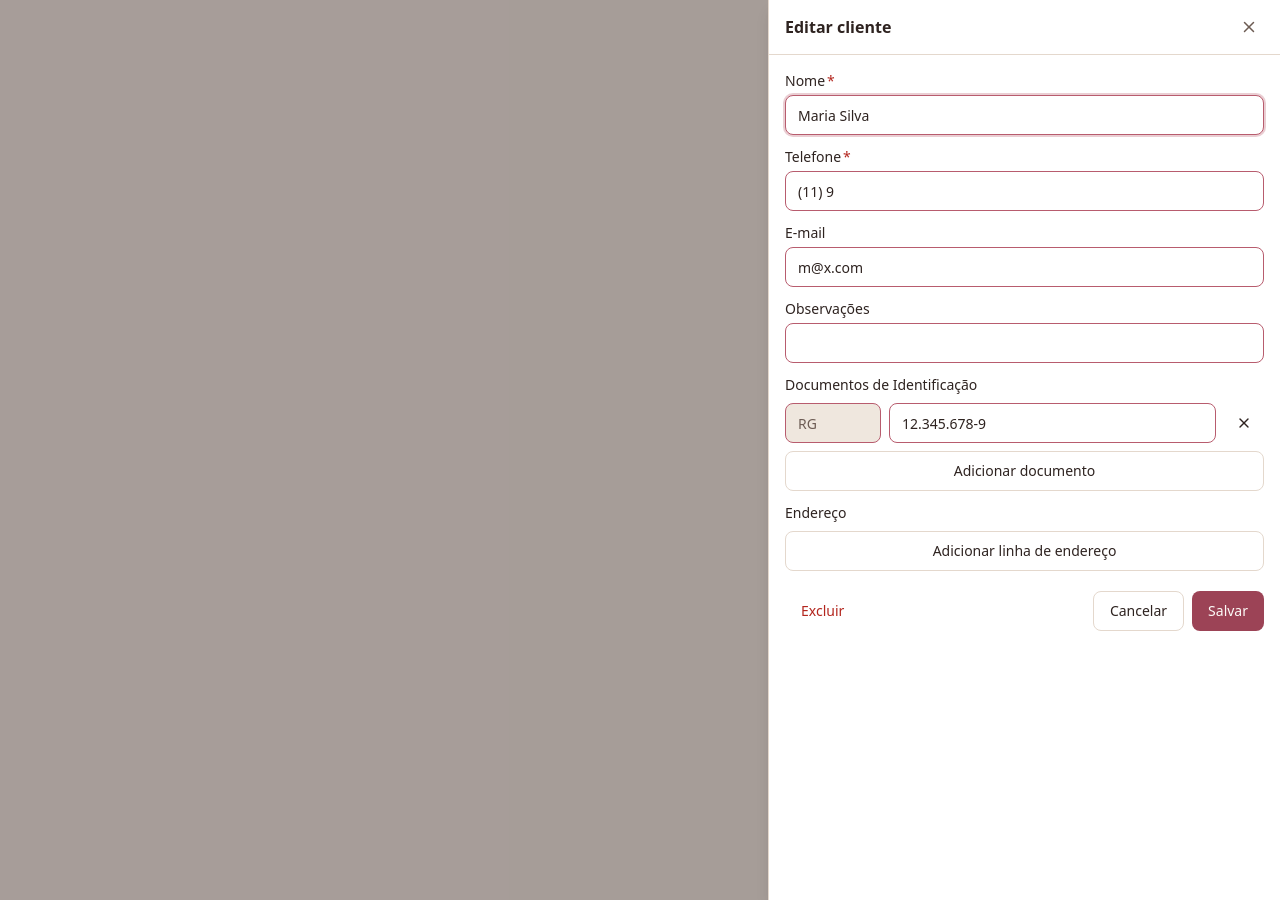
Scenario: ClientDrawer › CRITICAL: keeps template rows locked when an earlier one was never filled
This screenshot has width=1280, height=900.
Click the button named "Remover documento": (1244, 423) [1224,403,1264,443]
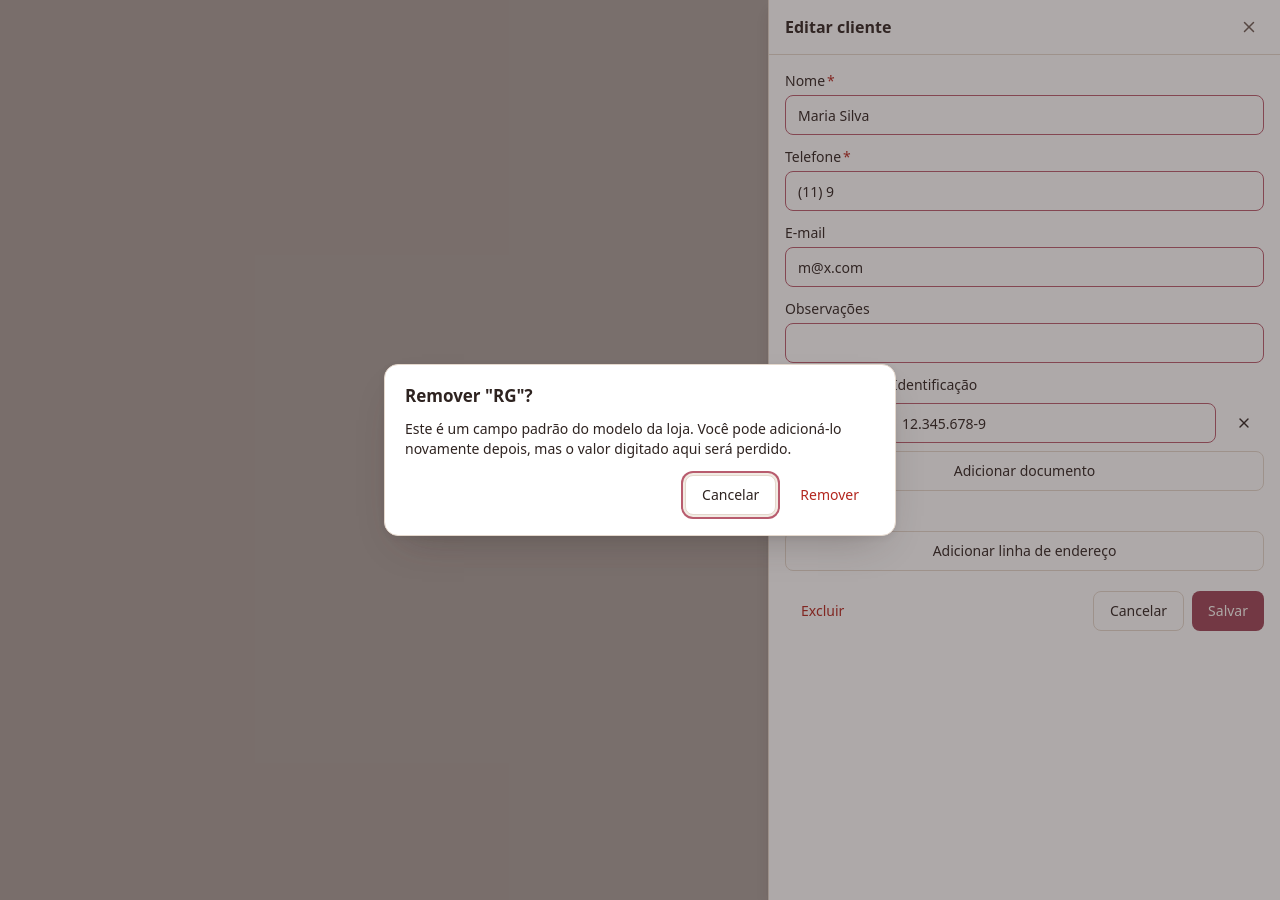
Result: the heading "Remover \"RG\"?" is shown at [405,384,533,407]
